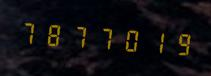eight: (42, 15, 66, 53)
nine: (167, 24, 191, 61)
one: (142, 22, 166, 60)
seven: (17, 13, 41, 51), (67, 17, 91, 54), (92, 19, 116, 56)
zero: (117, 20, 141, 58)
